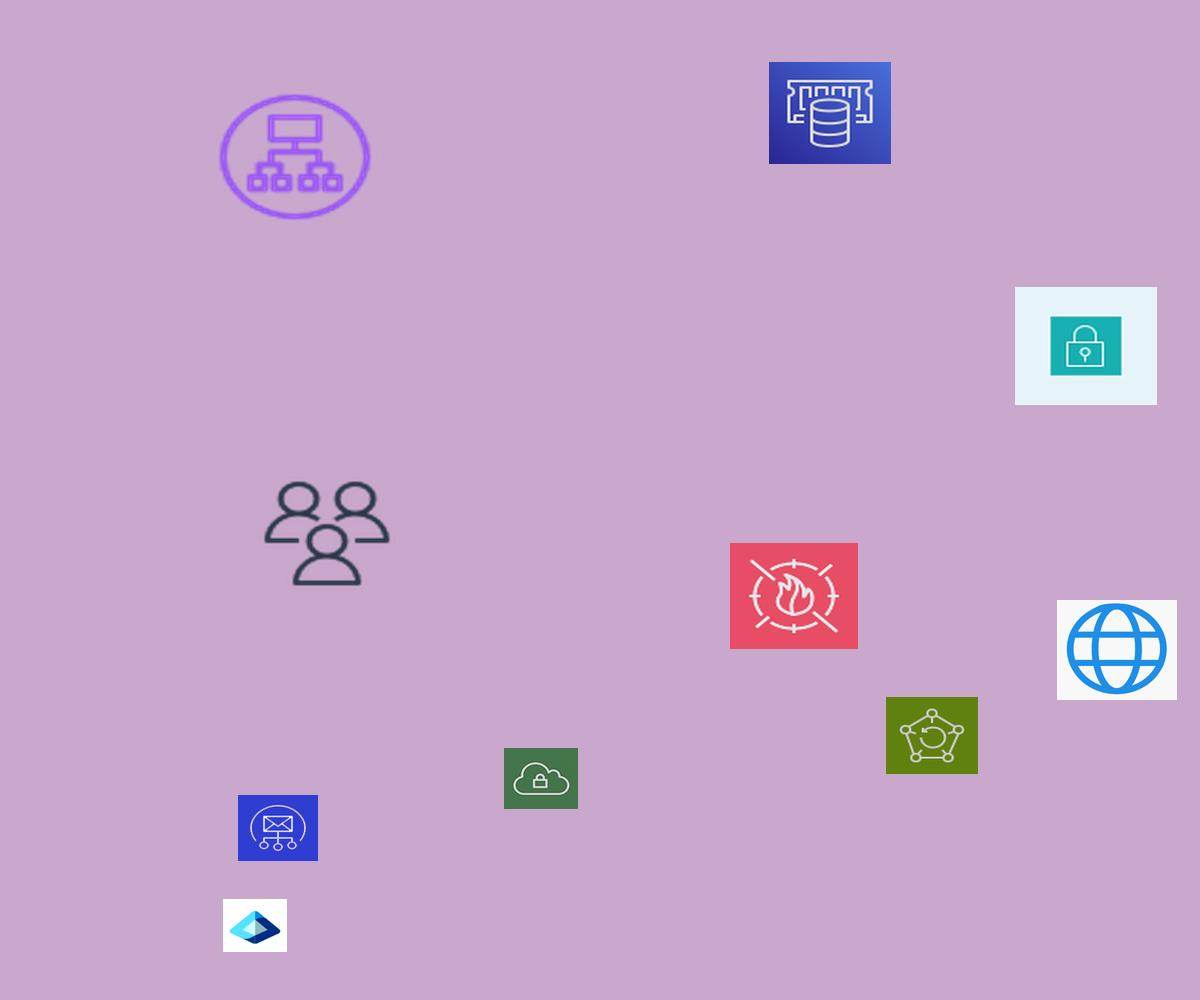AWS-Backup: (886, 697, 978, 774)
AWS-ElastiCache: (769, 62, 891, 164)
AWS-Private-subnet: (1015, 287, 1157, 405)
AWS-Private_vpc: (504, 748, 578, 809)
AWS-Res_Elastic-Load-Balancing_Application-Load-Balancer: (213, 89, 377, 225)
AWS-Res_Users: (259, 477, 395, 590)
AWS-Simple-Email-Service: (238, 795, 318, 861)
AWS-WAF: (730, 543, 858, 649)
Azure_http: (1057, 600, 1177, 700)
Azure_microsoft_entra: (223, 899, 287, 952)
